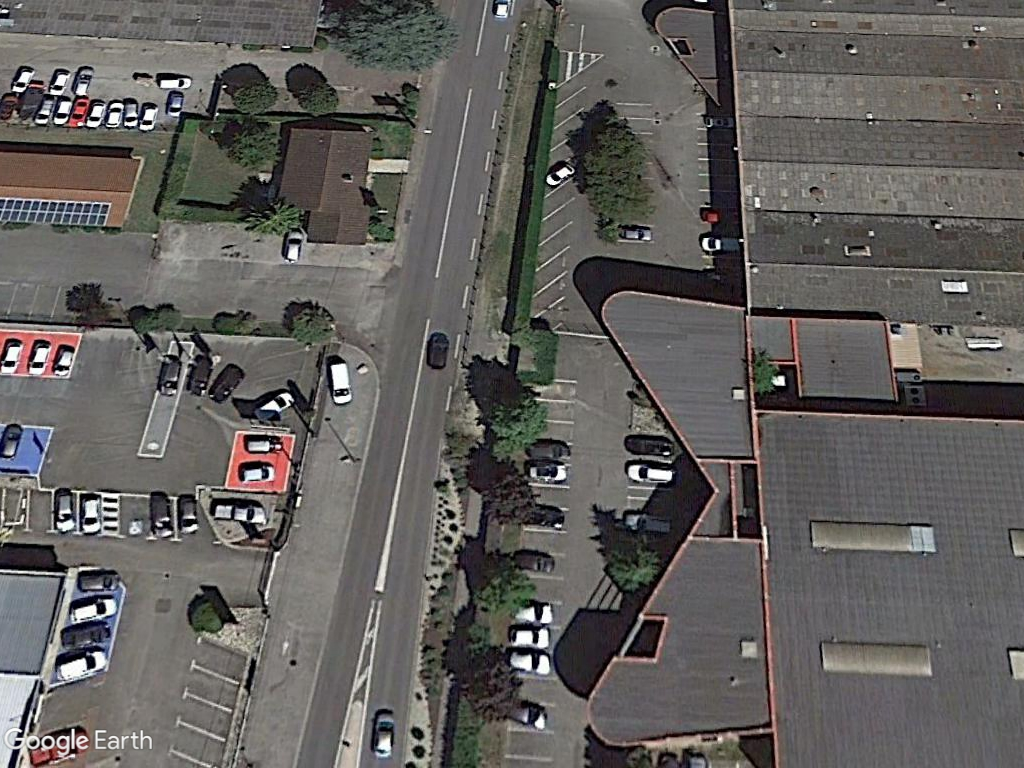car: (370, 706, 396, 764), (147, 489, 175, 541), (625, 458, 677, 486), (424, 325, 452, 375), (155, 351, 182, 401), (77, 488, 104, 538), (51, 488, 75, 535), (283, 222, 306, 269), (29, 336, 52, 380), (176, 488, 198, 533)
van: (327, 358, 356, 407)
